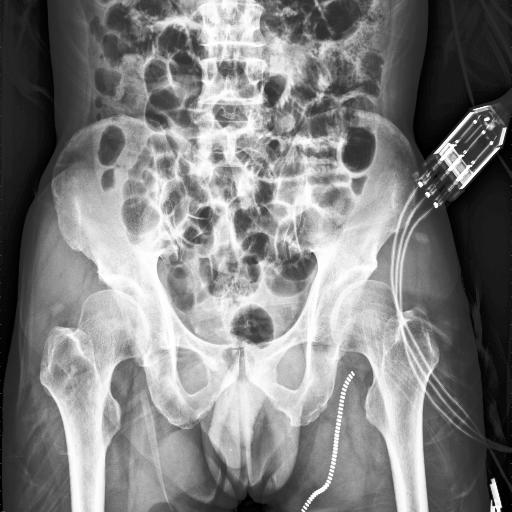normal: (330, 280, 439, 512), (40, 290, 150, 512)
